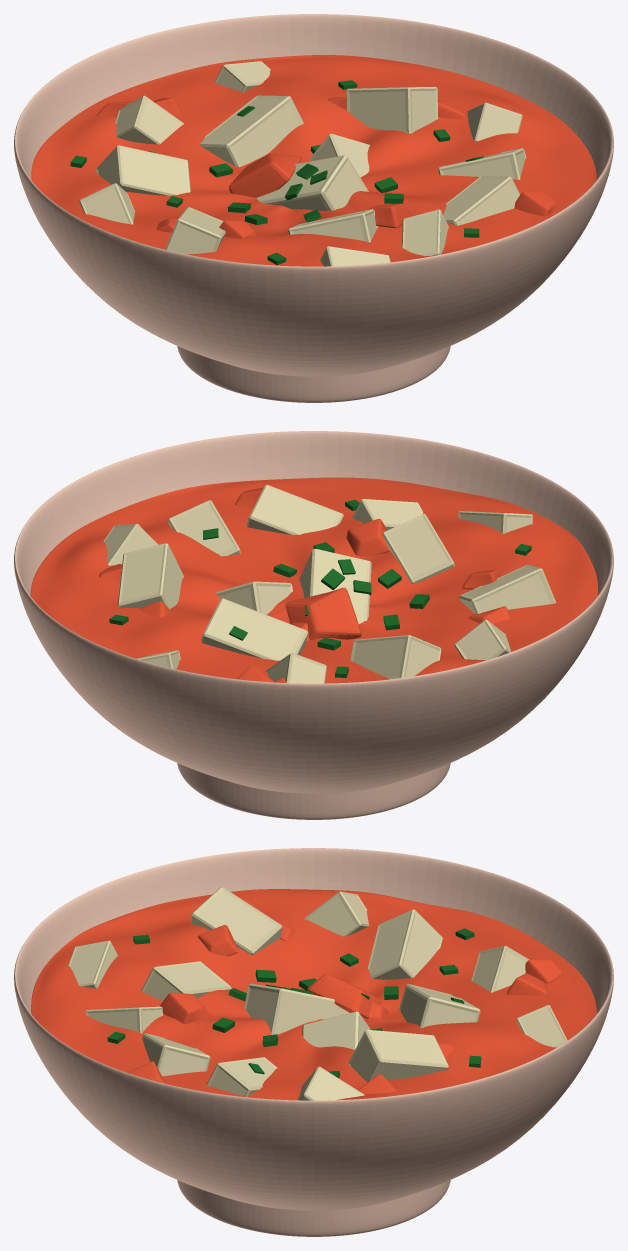
The model's file is tomato tofu soup.fbx.
The picture shows the model from 3 angles, top to bottom: view 1: azimuth 30°, elevation 25°; view 2: azimuth 150°, elevation 25°; view 3: azimuth 270°, elevation 25°; orthographic projection.
Parts seen in each view (by area): view 1: tomato tofu soup, Sphere.005, Tofu.004, Tofu.008, Tofu.007, Tofu.001, Tofu.005, Tofu.012, Cube.025, Tofu.002, Tofu.010, Tofu.006 (+9 smaller); view 2: tomato tofu soup, Sphere.005, Tofu.004, Tofu.008, Tofu.005, Tofu.006, Tofu.007, Tofu.002, Cube.025, Tofu.001, Tofu.003, Tofu.015 (+6 smaller); view 3: tomato tofu soup, Sphere.005, Tofu.008, Tofu.007, Tofu.002, Tofu.001, Tofu.004, Tofu.006, Tofu.013, Tofu.005, Tofu.012, Tofu.003 (+10 smaller).
Boxes of the visible parts, left/top/right/bottom form: tomato tofu soup: left=14, top=14, right=613, bottom=402; Sphere.005: left=31, top=55, right=596, bottom=266; Tofu.004: left=199, top=95, right=303, bottom=167; Tofu.008: left=346, top=87, right=438, bottom=133; Tofu.007: left=96, top=145, right=190, bottom=195; Tofu.001: left=257, top=155, right=368, bottom=210; Tofu.005: left=443, top=176, right=520, bottom=225; Tofu.012: left=115, top=95, right=184, bottom=144; Cube.025: left=229, top=153, right=301, bottom=197; Tofu.002: left=165, top=207, right=225, bottom=254; Tofu.010: left=402, top=209, right=448, bottom=255; Tofu.006: left=288, top=209, right=378, bottom=242; tomato tofu soup: left=14, top=431, right=613, bottom=819; Sphere.005: left=30, top=477, right=597, bottom=683; Tofu.004: left=201, top=598, right=308, bottom=660; Tofu.008: left=117, top=543, right=183, bottom=609; Tofu.005: left=247, top=484, right=343, bottom=534; Tofu.006: left=382, top=514, right=454, bottom=583; Tofu.007: left=350, top=635, right=441, bottom=679; Tofu.002: left=459, top=564, right=555, bottom=614; Cube.025: left=285, top=587, right=361, bottom=639; Tofu.001: left=299, top=548, right=371, bottom=623; Tofu.003: left=168, top=500, right=240, bottom=556; Tofu.015: left=216, top=581, right=292, bottom=614; tomato tofu soup: left=14, top=848, right=613, bottom=1236; Sphere.005: left=31, top=889, right=596, bottom=1100; Tofu.008: left=348, top=1029, right=448, bottom=1082; Tofu.007: left=368, top=909, right=442, bottom=979; Tofu.002: left=191, top=887, right=281, bottom=954; Tofu.001: left=244, top=983, right=349, bottom=1034; Tofu.004: left=399, top=984, right=480, bottom=1028; Tofu.006: left=141, top=961, right=231, bottom=1001; Tofu.013: left=304, top=891, right=369, bottom=936; Tofu.005: left=142, top=1033, right=210, bottom=1076; Tofu.012: left=471, top=945, right=529, bottom=992; Tofu.003: left=206, top=1057, right=277, bottom=1096.
Bounding box in the file's own units: 409 × 159 × 409.
